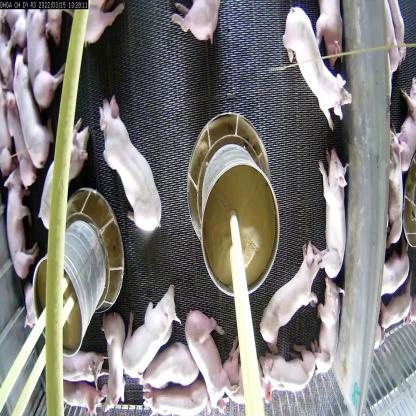Pig: (280, 6, 348, 126), (101, 95, 161, 231), (31, 119, 95, 227), (260, 242, 325, 341), (312, 145, 352, 279), (183, 307, 231, 415), (11, 62, 55, 171), (14, 17, 64, 111), (125, 286, 175, 376), (2, 177, 39, 288), (221, 337, 269, 415), (312, 278, 348, 379), (257, 338, 312, 401), (98, 313, 131, 415), (149, 375, 222, 415), (148, 340, 198, 396), (49, 354, 109, 396), (167, 0, 217, 48)
